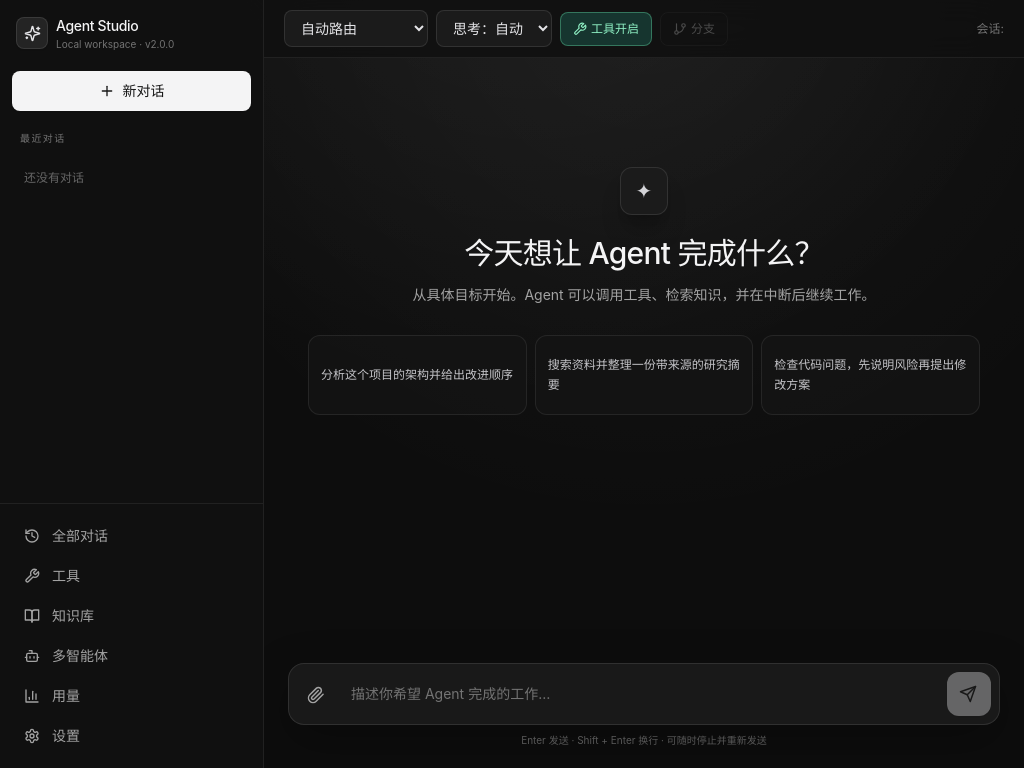
a task starter fills and focuses the composer
The width and height of the screenshot is (1024, 768).
Click the button "分析这个项目的架构并给出改进顺序" at x=417, y=375, box [308,335,527,415]
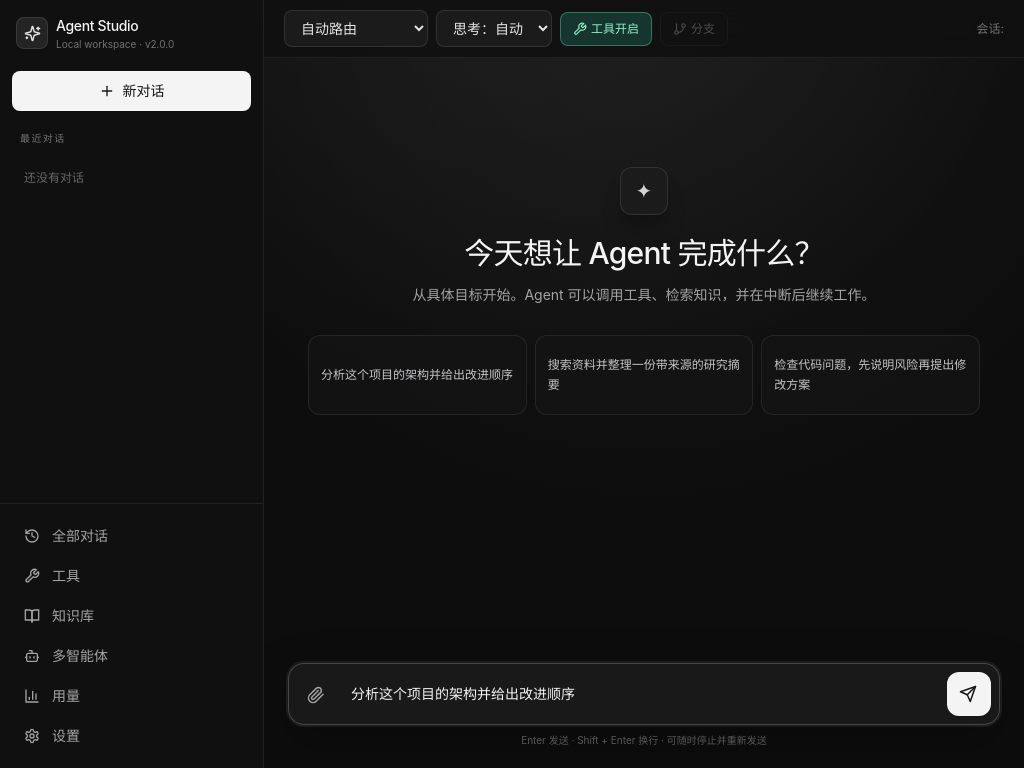
Check: the text box named "发送给 Agent 的消息" holds "分析这个项目的架构并给出改进顺序", box [343,672,939,716]
Check: the button named "发送消息" is enabled, box [947,672,991,716]
